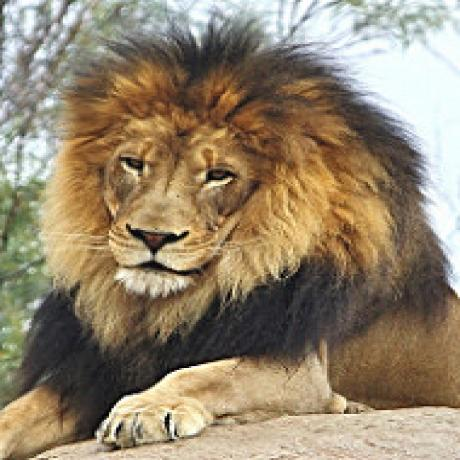Lion: (0, 22, 460, 456)
